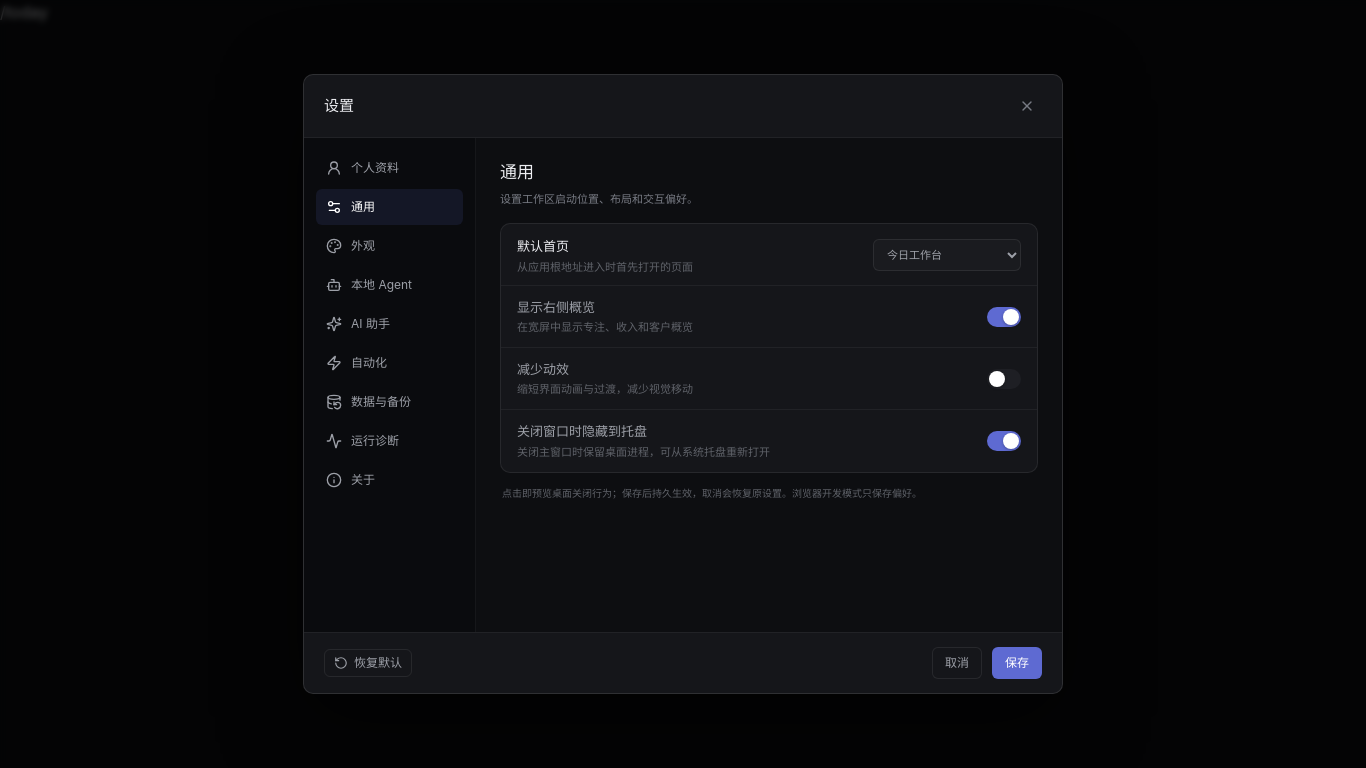
SettingsModal › shows sanitized runtime diagnostics in browser development mode
Click the button "运行诊断". click: {"x": 390, "y": 441}
box: [316,423,463,459]
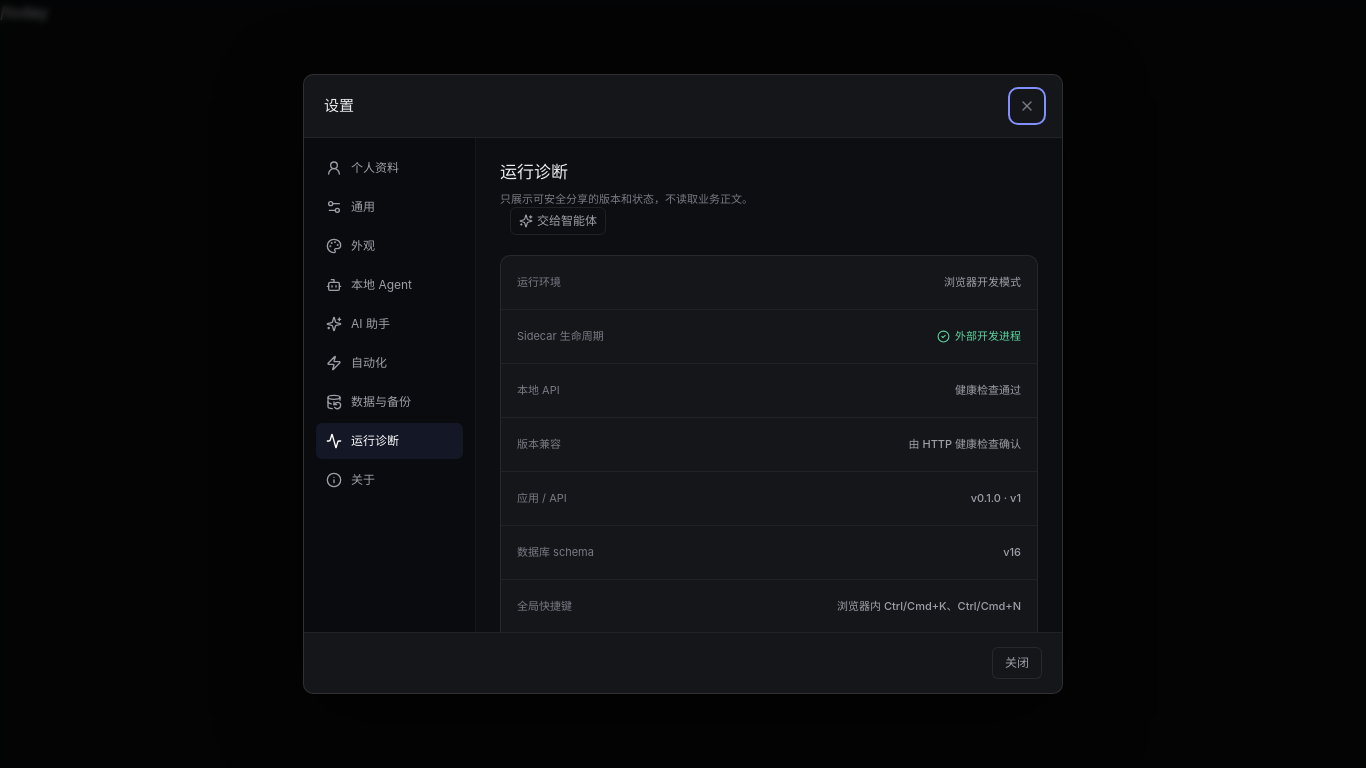
Expected: the text "外部开发进程" is shown, [937,328,1021,345]
Expected: the text "健康检查通过" is shown, [955,382,1021,399]
Expected: the text "由 HTTP 健康检查确认" is shown, [908,436,1021,453]
